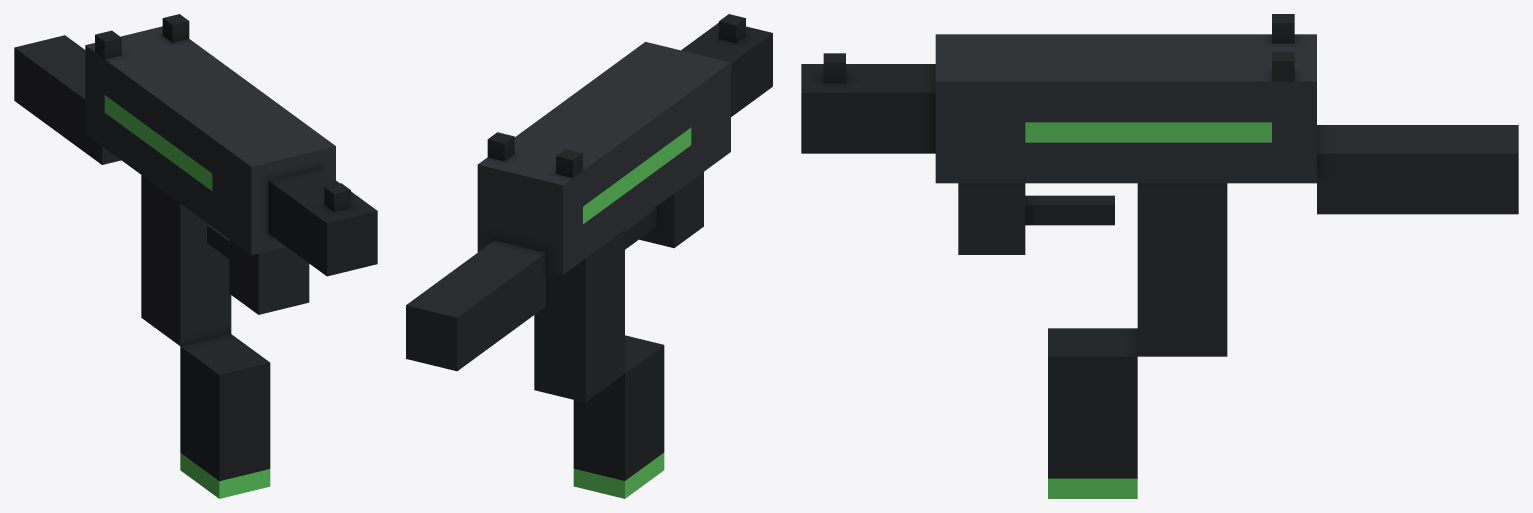
File: zipper_uncommon.glb
The picture shows the model from 3 angles, left to right: view 1: azimuth 30°, elevation 25°; view 2: azimuth 150°, elevation 25°; view 3: azimuth 270°, elevation 25°; orthographic projection. The views are drawn at different scales.
Parts seen in each view (by area): view 1: zipper_uncommon_body; view 2: zipper_uncommon_body; view 3: zipper_uncommon_body.
Boxes of the visible parts, x1=… form: zipper_uncommon_body: x1=14, y1=14, x2=377, y2=498; zipper_uncommon_body: x1=406, y1=14, x2=772, y2=498; zipper_uncommon_body: x1=801, y1=14, x2=1518, y2=498.
Bounding box in the file's own units: 0.1953 × 0.8594 × 1.25.
Materials: 1 (1 with a texture image).
